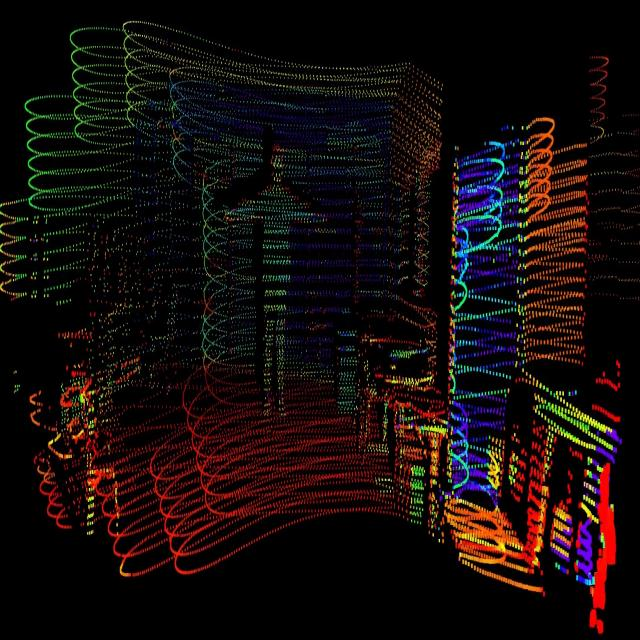human: (224, 132, 335, 445)
